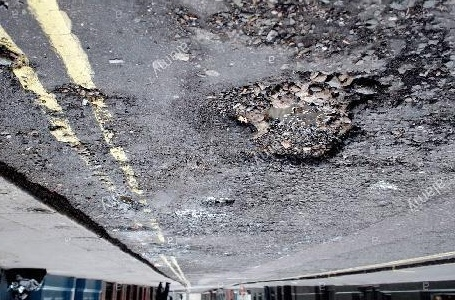pothole: (201, 69, 390, 171), (202, 197, 235, 208)
